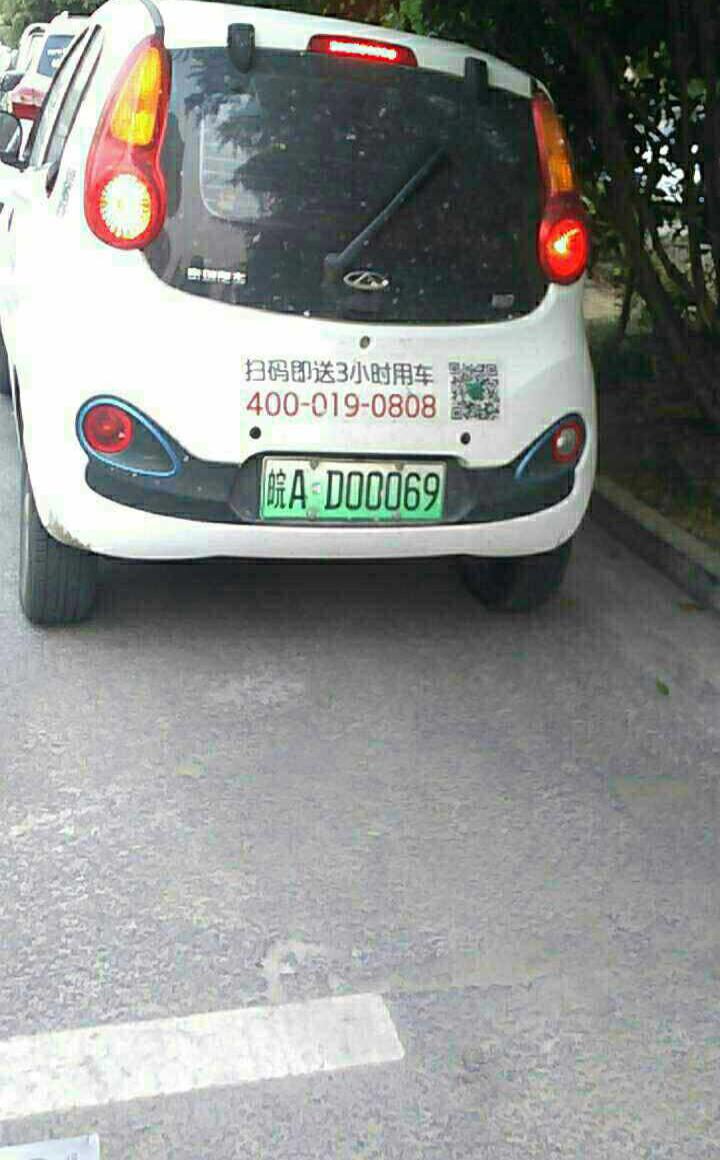car_green: (260, 455, 455, 523)
